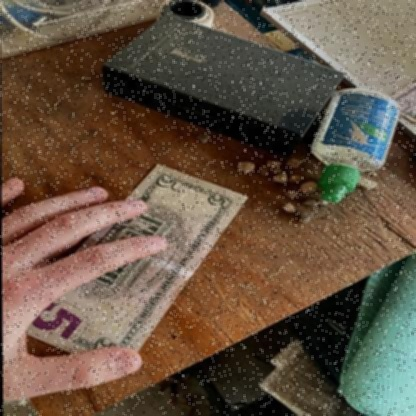five-back: (8, 166, 248, 374)
